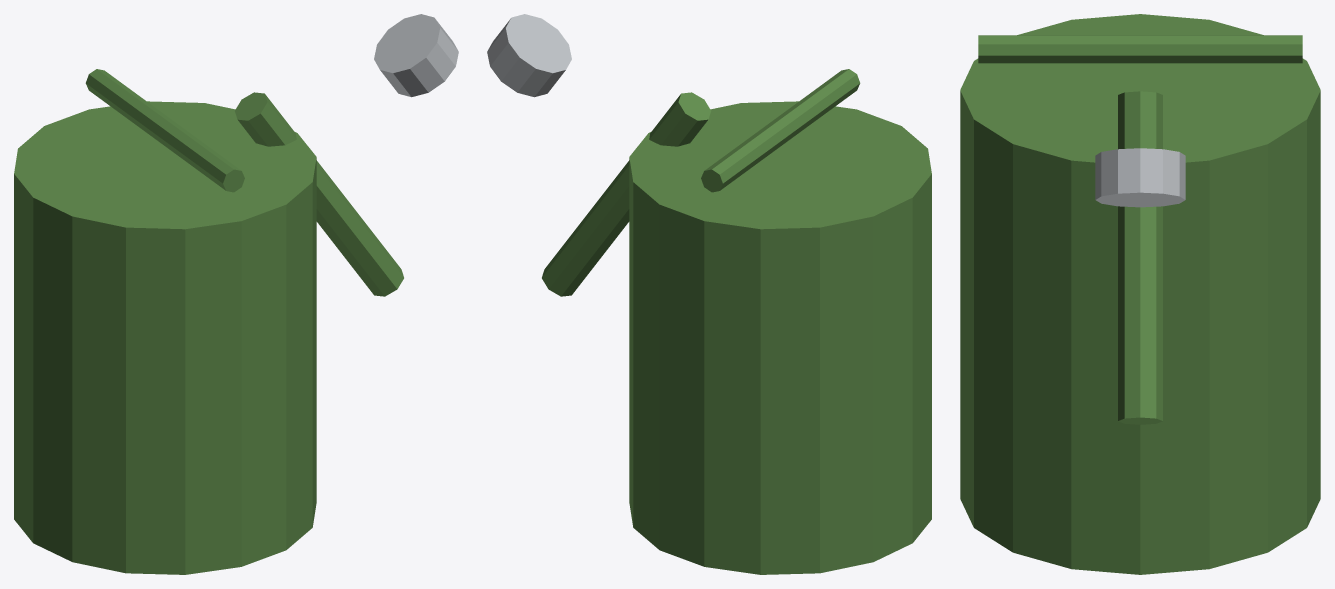
The model's file is hh_watering_can.glb.
3 views of the same model, side by side, from view 1: azimuth 30°, elevation 25°; view 2: azimuth 150°, elevation 25°; view 3: azimuth 270°, elevation 25° (orthographic). The views are drawn at different scales.
Visible parts, largest first — view 1: can, spout, rose, handle; view 2: can, spout, rose, handle; view 3: can, spout, handle, rose.
Boxes of the visible parts, x1,y1,x2,y2 form: can: [14, 101, 316, 574]; spout: [235, 92, 403, 296]; rose: [374, 14, 458, 97]; handle: [85, 69, 244, 192]; can: [629, 101, 931, 574]; spout: [542, 92, 710, 296]; rose: [487, 14, 571, 97]; handle: [701, 69, 860, 192]; can: [960, 14, 1320, 574]; spout: [1118, 91, 1162, 424]; handle: [978, 35, 1302, 63]; rose: [1095, 148, 1185, 207].
Size of the model in its own units: 0.3812 by 0.3713 by 0.24.
